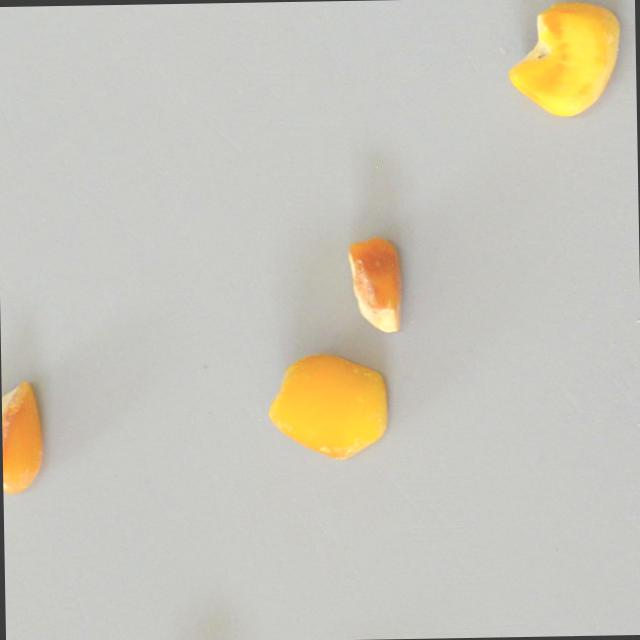dañado: (265, 347, 391, 461), (505, 0, 618, 121), (341, 231, 404, 335), (1, 374, 45, 495)
